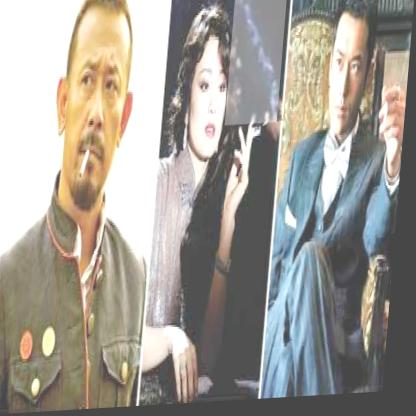smoke: (236, 0, 279, 125)
